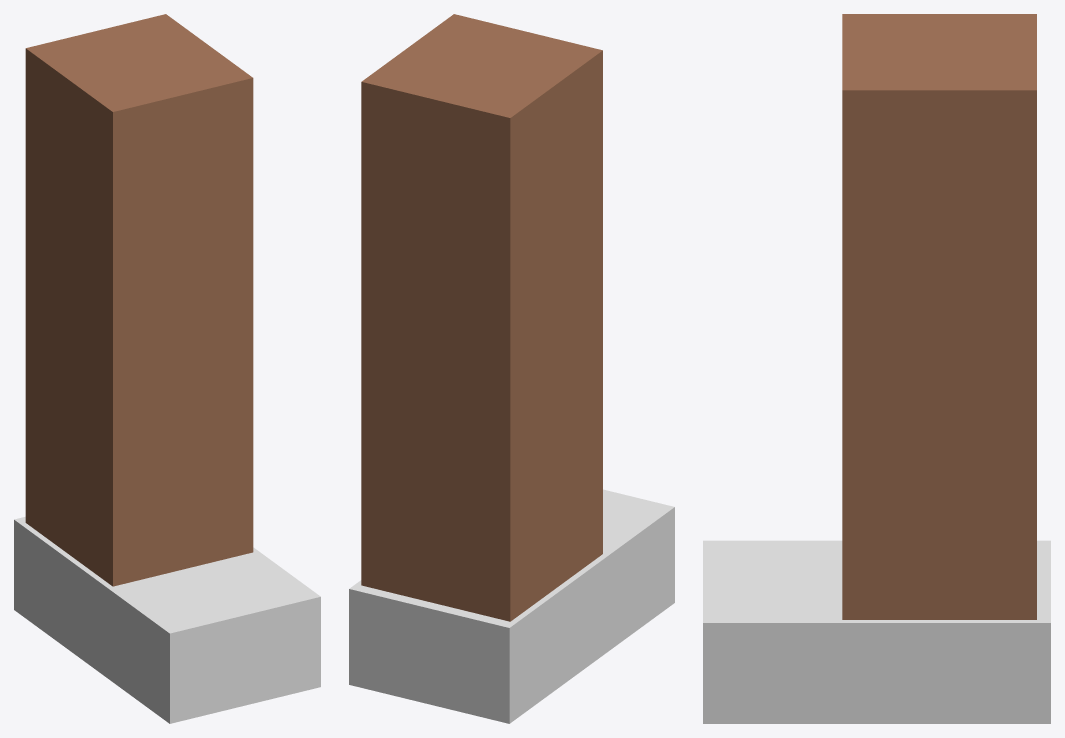
File: j2_pantorrilla.obj
The picture shows the model from 3 angles, left to right: view 1: azimuth 30°, elevation 25°; view 2: azimuth 150°, elevation 25°; view 3: azimuth 270°, elevation 25°; orthographic projection. The views are drawn at different scales.
Size of the model in its own units: 0.14 by 0.5 by 0.25.
Materials: 2 (2 with a texture image).
